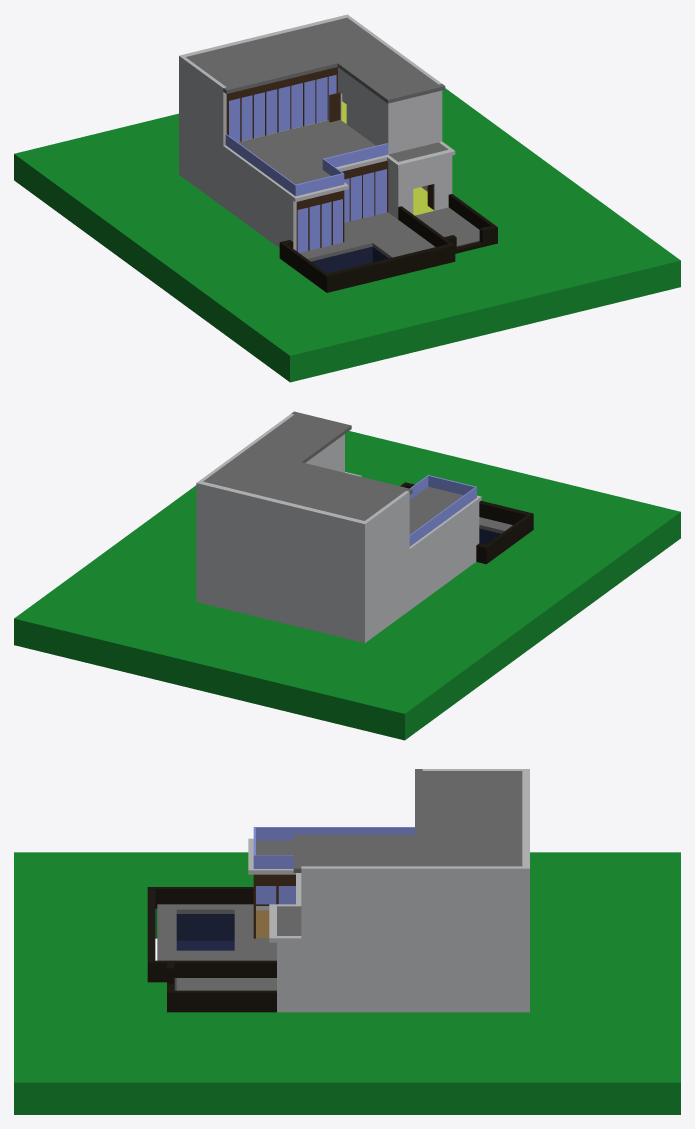
Rendered from Mansión.fbx.
3 renders of one model, top to bottom at view 1: azimuth 30°, elevation 25°; view 2: azimuth 150°, elevation 25°; view 3: azimuth 270°, elevation 25°, orthographic. The views are drawn at different scales.
Parts seen in each view (by area): view 1: Terreno, Planta alta Techo, Pared_B_Ext, Planta Alta Suelo, Muro ext, Suelo ext, Ventanas.001, Pared_A_Ext, Ventanas, Pared_A_Hor_5, Pared_A_Ver_4, Barandillas (+5 smaller); view 2: Terreno, Pared_B_Ext, Pared_A_Ext, Planta alta Techo, Muro ext, Planta Alta Suelo, Barandillas, Pared_A_Ver_4, Suelo ext; view 3: Terreno, Pared_A_Ext, Pared_B_Ext, Planta alta Techo, Muro ext, Suelo ext, Planta Alta Suelo, Barandillas, Ventanas, Pared_B_Madera_Ver.
Boxes of the visible parts, x1=… form: Terreno: x1=14, y1=88, x2=680, y2=382; Planta alta Techo: x1=186, y1=17, x2=445, y2=103; Pared_B_Ext: x1=179, y1=117, x2=452, y2=250; Planta Alta Suelo: x1=223, y1=101, x2=455, y2=201; Muro ext: x1=279, y1=194, x2=497, y2=292; Suelo ext: x1=299, y1=207, x2=479, y2=273; Ventanas.001: x1=229, y1=74, x2=336, y2=141; Pared_A_Ext: x1=179, y1=14, x2=442, y2=148; Ventanas: x1=297, y1=169, x2=386, y2=252; Pared_A_Hor_5: x1=389, y1=91, x2=438, y2=154; Pared_A_Ver_4: x1=338, y1=67, x2=389, y2=154; Barandillas: x1=225, y1=134, x2=388, y2=196; Terreno: x1=14, y1=431, x2=680, y2=740; Pared_B_Ext: x1=196, y1=502, x2=479, y2=642; Pared_A_Ext: x1=196, y1=414, x2=409, y2=585; Planta alta Techo: x1=203, y1=411, x2=412, y2=520; Muro ext: x1=400, y1=482, x2=533, y2=564; Planta Alta Suelo: x1=345, y1=472, x2=481, y2=552; Barandillas: x1=409, y1=475, x2=476, y2=546; Pared_A_Ver_4: x1=305, y1=434, x2=344, y2=472; Suelo ext: x1=479, y1=517, x2=512, y2=544; Terreno: x1=14, y1=852, x2=680, y2=1114; Pared_A_Ext: x1=301, y1=769, x2=529, y2=942; Pared_B_Ext: x1=256, y1=906, x2=529, y2=1012; Planta alta Techo: x1=293, y1=769, x2=522, y2=872; Muro ext: x1=147, y1=887, x2=276, y2=1012; Suelo ext: x1=157, y1=904, x2=276, y2=990; Planta Alta Suelo: x1=248, y1=838, x2=303, y2=942; Barandillas: x1=253, y1=827, x2=414, y2=868; Ventanas: x1=256, y1=886, x2=295, y2=904; Pared_B_Madera_Ver: x1=256, y1=874, x2=295, y2=905.
Size of the model in its own units: 1134 by 404 by 1388.
